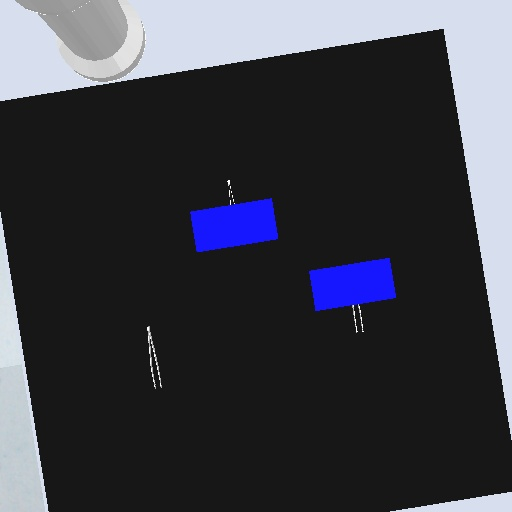pinza: (143, 321, 167, 391), (350, 302, 368, 334), (224, 178, 239, 208)
